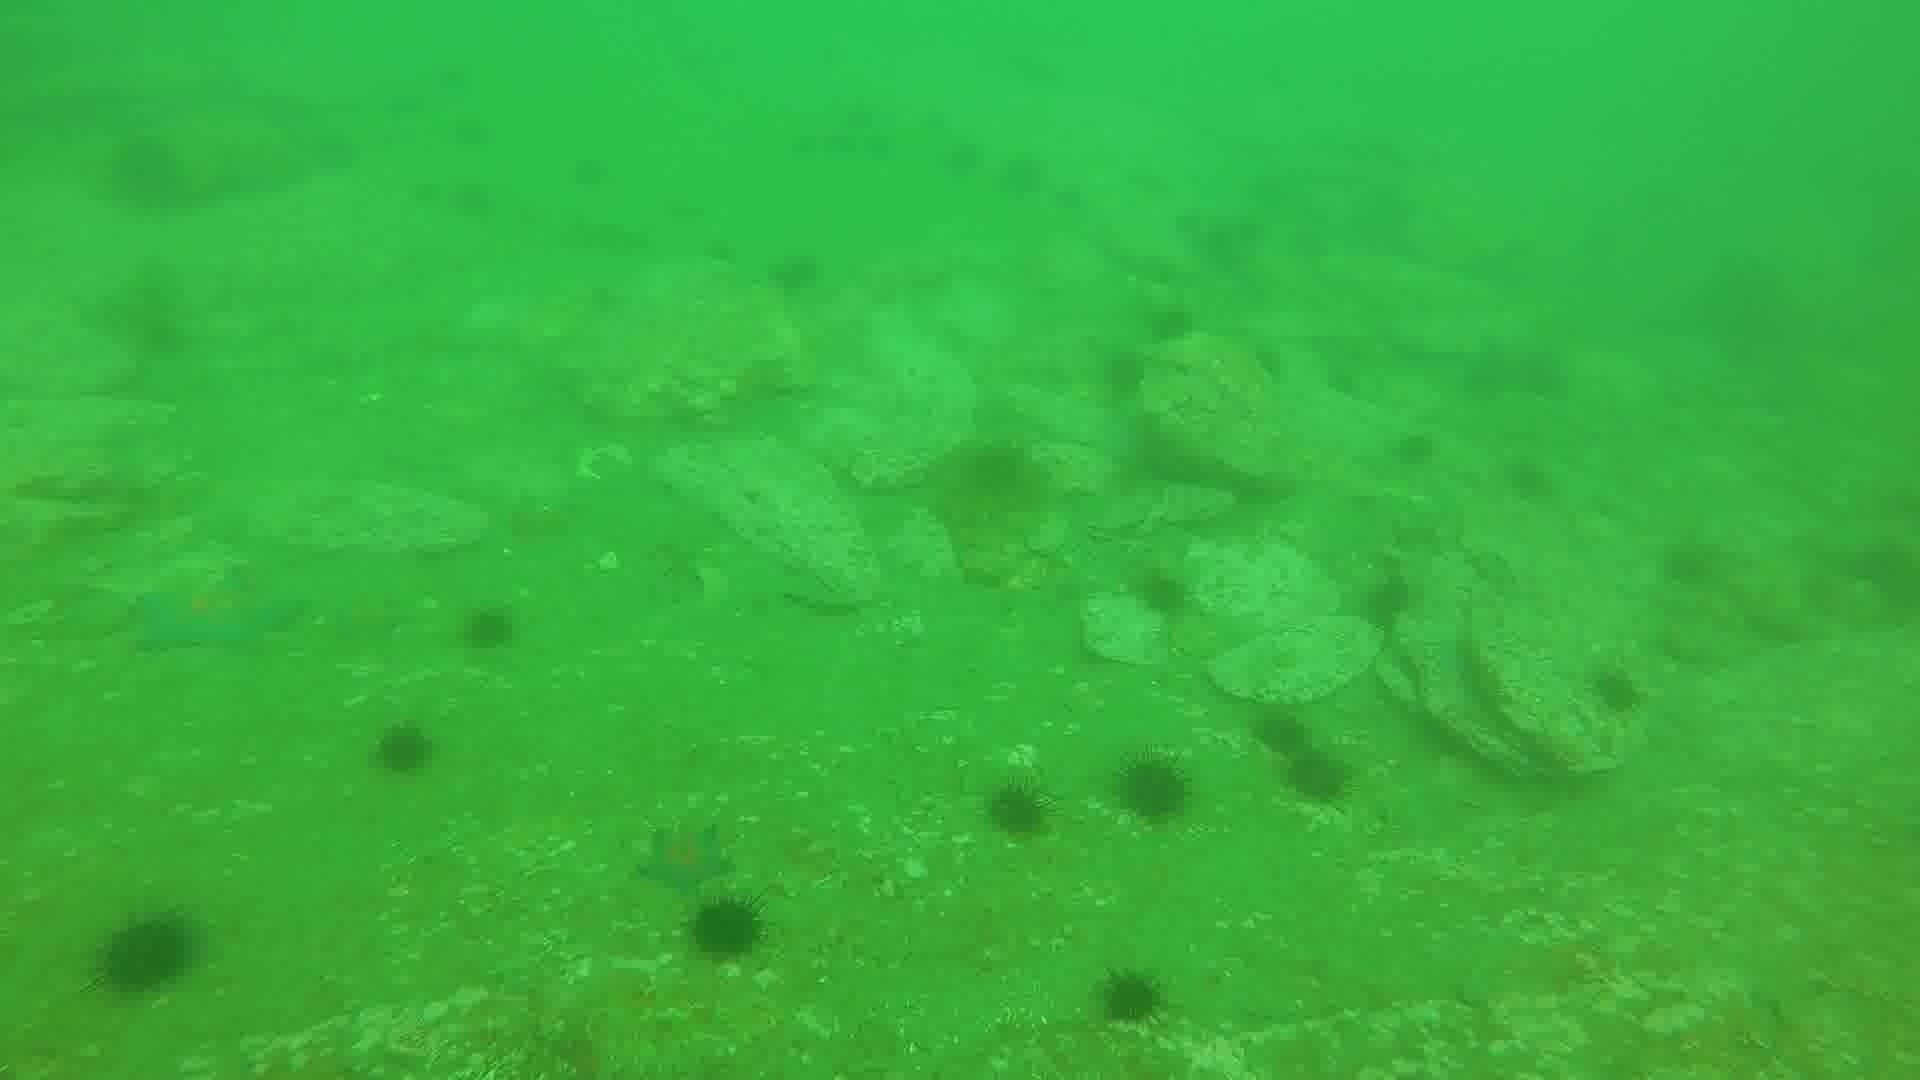echinus: (92, 910, 199, 1000), (102, 131, 189, 211), (952, 436, 1042, 513), (1112, 752, 1196, 828), (684, 893, 767, 967), (1093, 965, 1170, 1033), (980, 777, 1055, 844), (1279, 745, 1356, 810), (1354, 570, 1420, 636), (369, 719, 439, 781), (1129, 564, 1197, 624), (1247, 705, 1317, 764), (1585, 663, 1648, 721), (456, 601, 522, 655), (1095, 345, 1153, 405), (765, 247, 825, 301), (1501, 454, 1559, 508), (1139, 297, 1199, 349), (1387, 425, 1443, 473)
starfish: (131, 568, 303, 661), (633, 816, 736, 895), (323, 580, 414, 645)
